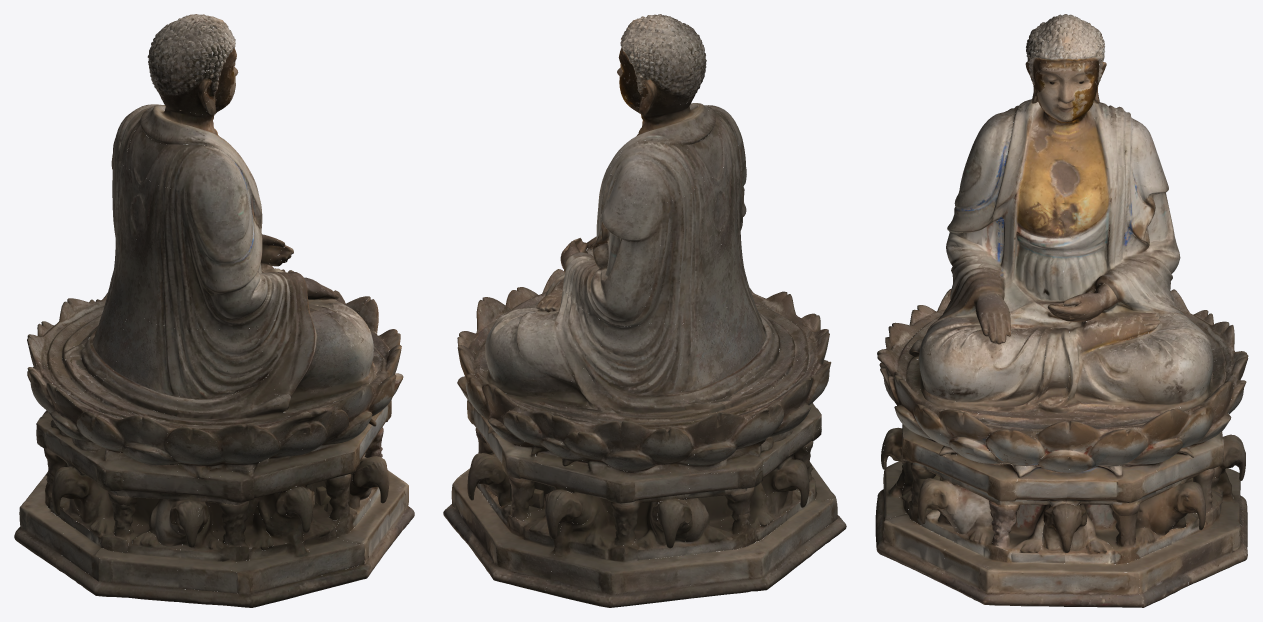
The model's file is f3-akshobhya.glb.
3 renders of one model, left to right at view 1: azimuth 30°, elevation 25°; view 2: azimuth 150°, elevation 25°; view 3: azimuth 270°, elevation 25°, orthographic. The views are drawn at different scales.
Parts seen in each view (by area): view 1: tripo_node_77c19095-1d6c-4e40-9478-90ba38c559c1; view 2: tripo_node_77c19095-1d6c-4e40-9478-90ba38c559c1; view 3: tripo_node_77c19095-1d6c-4e40-9478-90ba38c559c1.
Part boxes in pixels (box(x1,y1,x2,y2)): tripo_node_77c19095-1d6c-4e40-9478-90ba38c559c1: box(14, 14, 414, 607); tripo_node_77c19095-1d6c-4e40-9478-90ba38c559c1: box(443, 14, 846, 607); tripo_node_77c19095-1d6c-4e40-9478-90ba38c559c1: box(875, 14, 1248, 607).
Bounding box in the file's own units: 0.6579 × 1 × 0.6675.
1 material, 1 textured.
